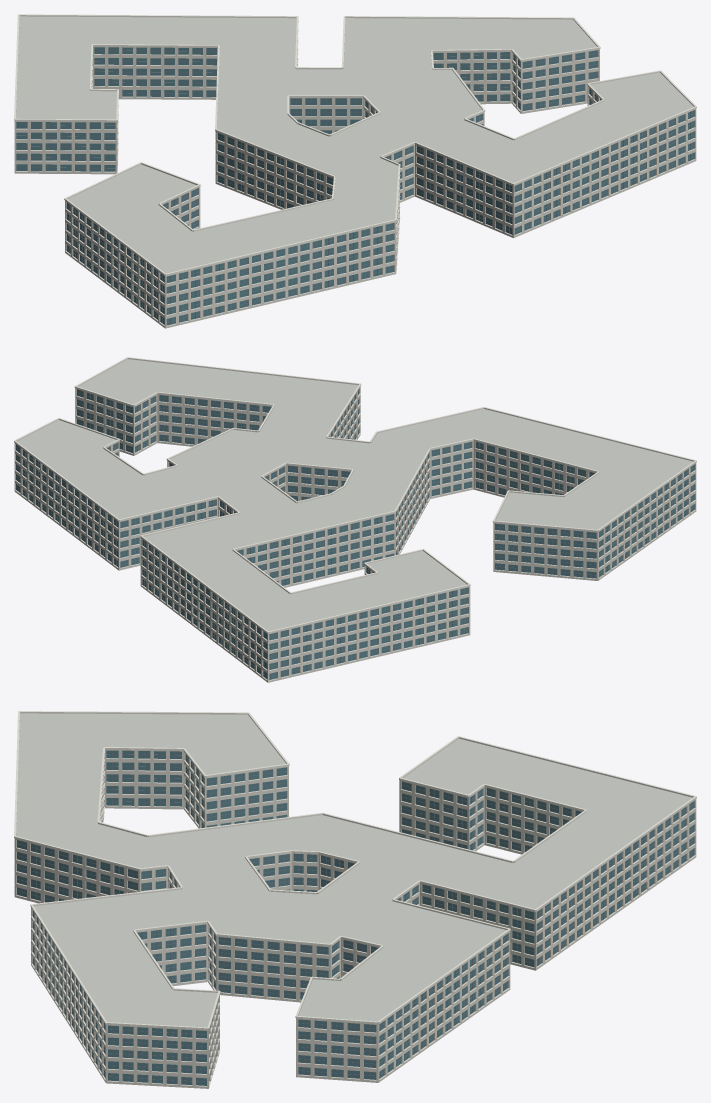
File: gongke.glb
The picture shows the model from 3 angles, top to bottom: view 1: azimuth 30°, elevation 25°; view 2: azimuth 150°, elevation 25°; view 3: azimuth 270°, elevation 25°; orthographic projection. The views are drawn at different scales.
Parts seen in each view (by area): view 1: roof, wall, glass, trim, metal; view 2: roof, wall, glass, trim, metal; view 3: roof, wall, glass, trim, metal.
Boxes of the visible parts, box(x1,y1,x2,y2) form: roof: box(16, 16, 693, 273); wall: box(14, 46, 696, 328); glass: box(16, 47, 694, 325); trim: box(14, 14, 696, 326); metal: box(16, 48, 694, 324); roof: box(17, 359, 692, 631); wall: box(14, 387, 696, 682); glass: box(16, 389, 694, 679); trim: box(14, 357, 696, 680); metal: box(16, 390, 694, 678); roof: box(16, 713, 692, 1027); wall: box(14, 749, 696, 1088); glass: box(17, 750, 694, 1085); trim: box(14, 711, 696, 1086); metal: box(17, 751, 694, 1085).
Bounding box in the file's own units: 183 × 16.34 × 166.
